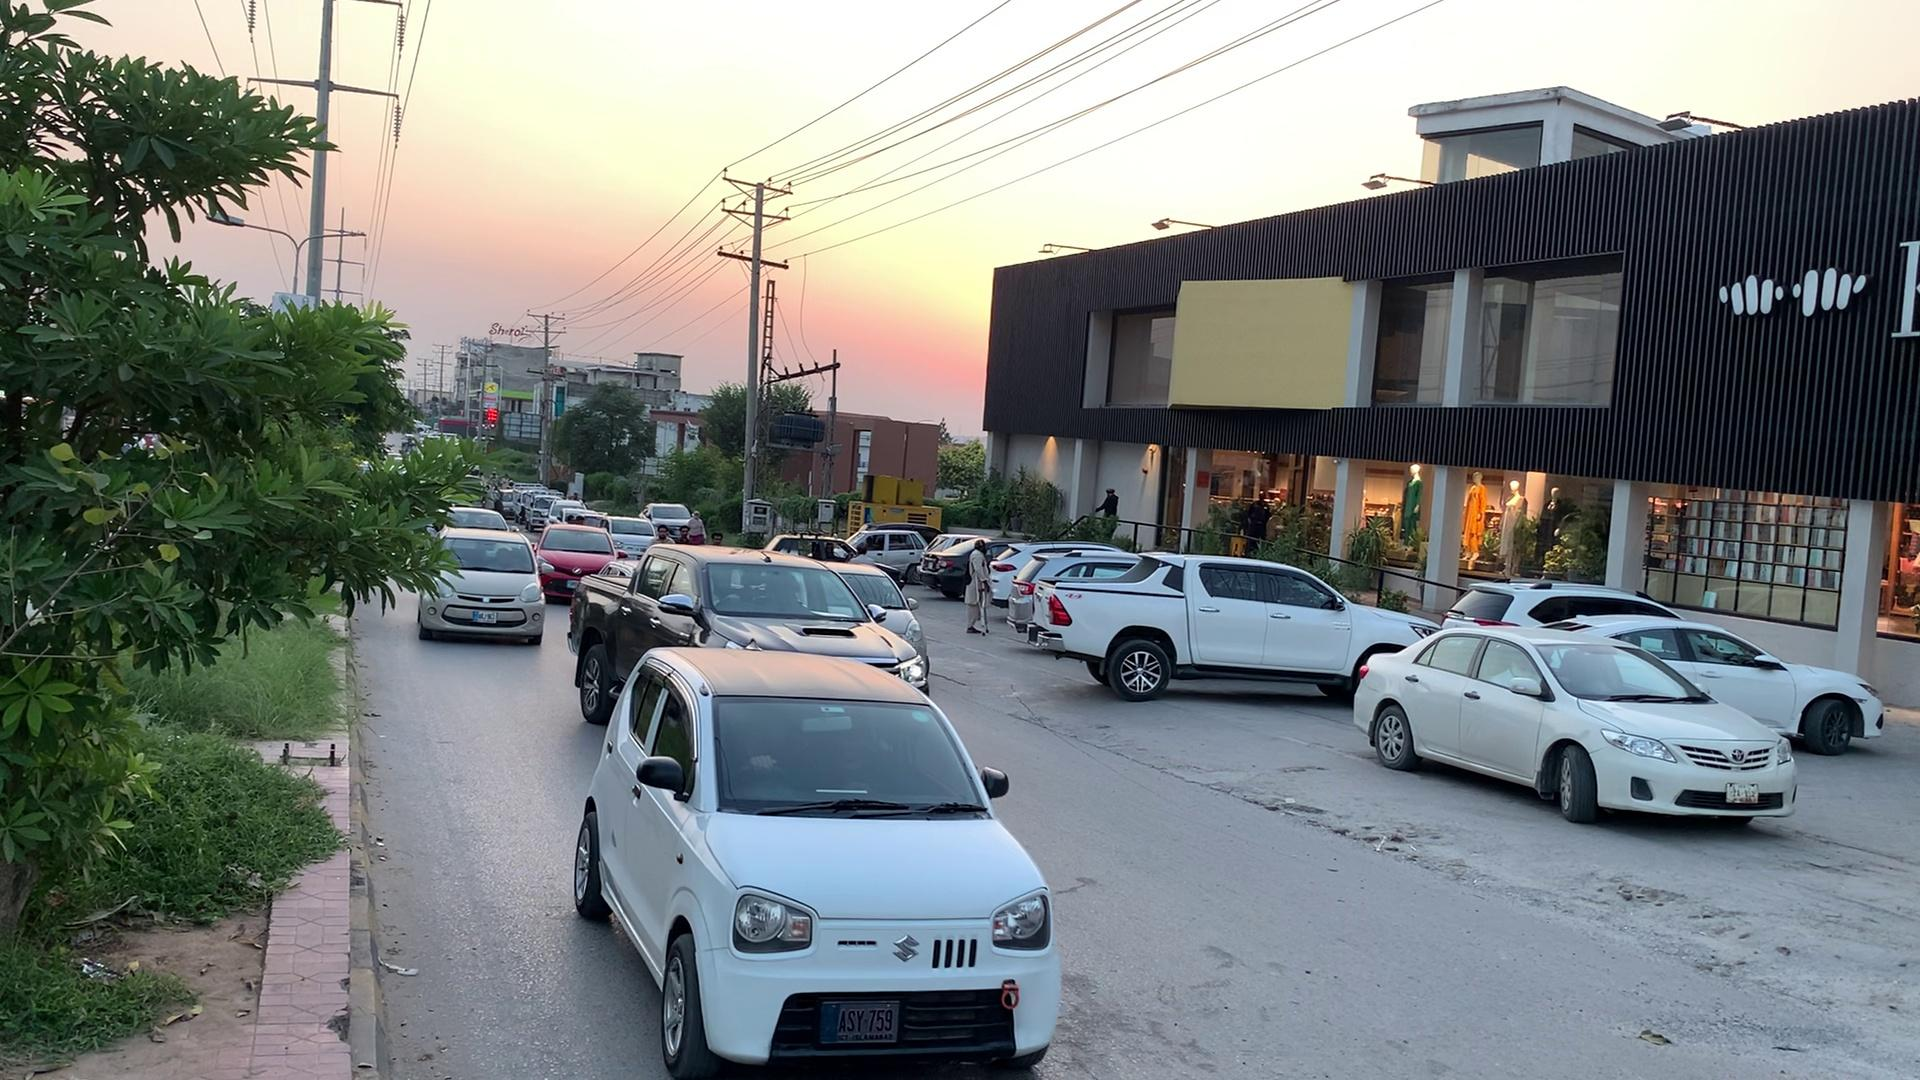windshield: (694, 683, 1004, 847)
